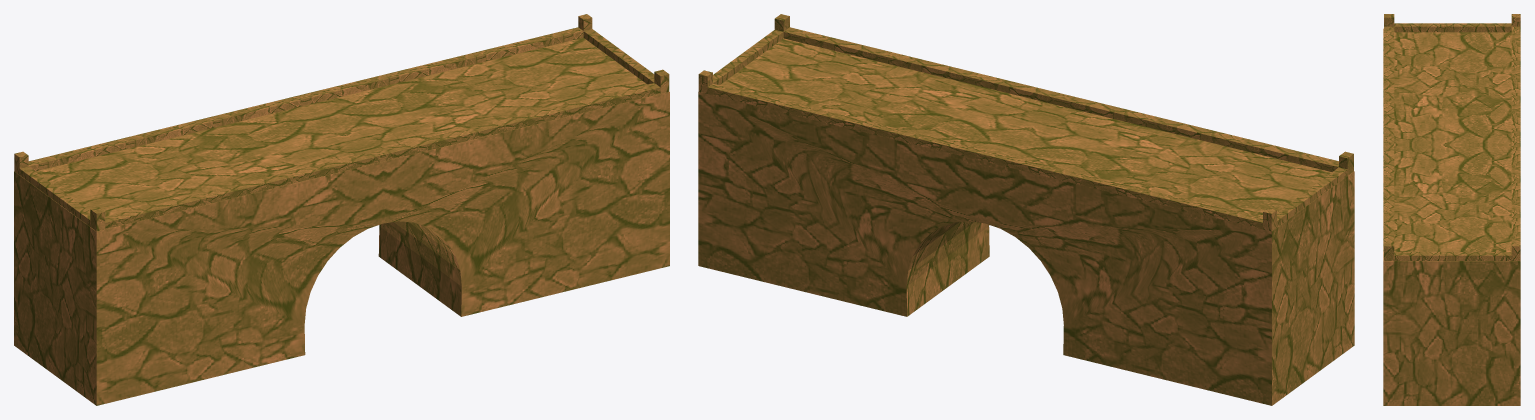
The model's file is Gate.fbx.
3 renders of one model, left to right at view 1: azimuth 30°, elevation 25°; view 2: azimuth 150°, elevation 25°; view 3: azimuth 270°, elevation 25°, orthographic. The views are drawn at different scales.
Visible parts, largest first — view 1: Cube, Cube.001; view 2: Cube, Cube.001; view 3: Cube, Cube.001.
Boxes of the visible parts, bbox=[...] form: Cube: bbox=[14, 37, 669, 405]; Cube.001: bbox=[14, 14, 669, 231]; Cube: bbox=[698, 38, 1354, 405]; Cube.001: bbox=[698, 14, 1353, 231]; Cube: bbox=[1383, 28, 1520, 405]; Cube.001: bbox=[1384, 14, 1520, 260].
Size of the model in its own units: 2277 by 728 by 567.
1 material, 1 textured.
